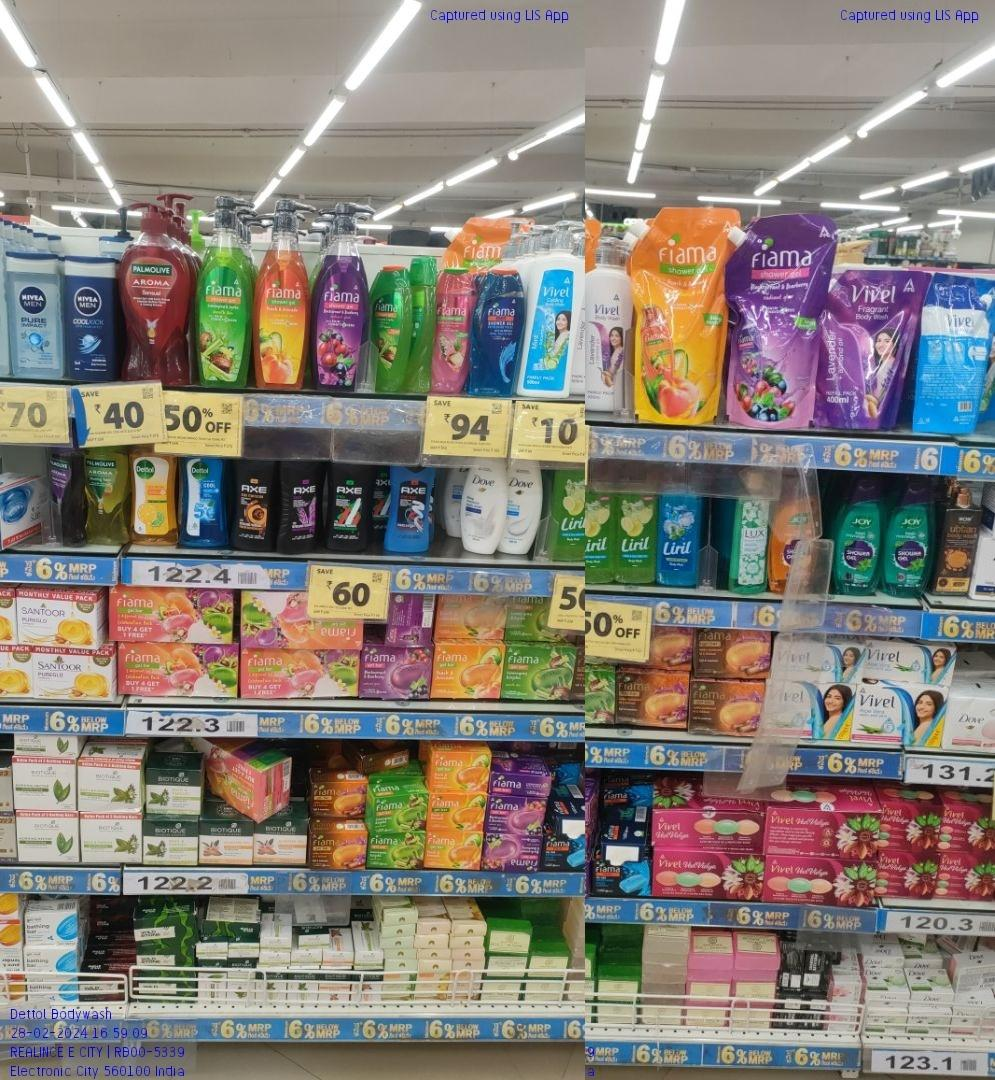Dettol_Bodywash_Cool: (180, 457, 234, 550)
Dettol_Bodywash_Refresh: (131, 446, 173, 546)
Dove_Deep_Moisture_Body_Wash_250ML: (462, 463, 502, 555)
Dove_Gentle_Exfoliating_Body_Wash_250ML: (505, 456, 543, 557)
Fiama_Shower_Gel_Lemongrass_and_Jojoba_250ML: (368, 263, 405, 394)
Fiama_Shower_Gel_Patchouli_and_Macadamia_250ML: (435, 266, 468, 397)
Joy_Shower_Gel_Mint_and_Eucalyptus_250ML: (885, 477, 936, 598), (836, 474, 882, 597)
Liril_Cooling_Mint_Body_Wash_250ML: (659, 473, 701, 590)
Liril_Lime_and_Tea_Tree_Oil_Body_Wash_250ML: (617, 472, 657, 586), (587, 475, 616, 583)
Lux_Body_Wash_Skin_Detox_Freesia_Scent_and_Alove_Vera_245ML: (733, 473, 770, 596)
Palmolive_Aroma_Morning_Tonic_Shower_Gel_250ML: (84, 443, 129, 548)
